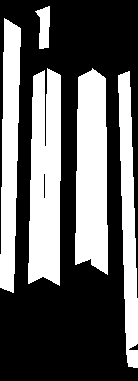parkingspot: (118, 71, 138, 350), (0, 18, 20, 292), (43, 68, 60, 285), (28, 70, 44, 283), (91, 68, 107, 274), (75, 70, 91, 264), (35, 6, 49, 48), (126, 350, 138, 367)
